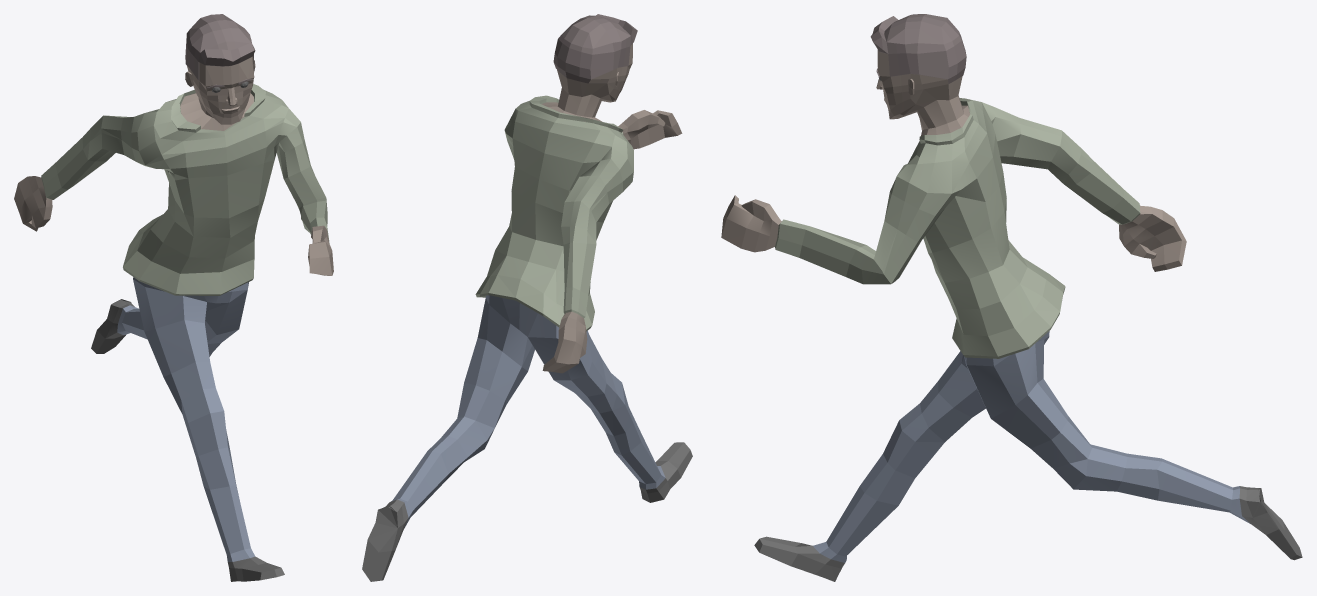
Rendered from run_1.glb.
The picture shows the model from 3 angles, left to right: view 1: azimuth 30°, elevation 25°; view 2: azimuth 150°, elevation 25°; view 3: azimuth 270°, elevation 25°; orthographic projection. The views are drawn at different scales.
Parts seen in each view (by area): view 1: BaseHuman_baked; view 2: BaseHuman_baked; view 3: BaseHuman_baked.
Boxes of the visible parts, x1=… form: BaseHuman_baked: x1=14, y1=14, x2=333, y2=581; BaseHuman_baked: x1=362, y1=14, x2=692, y2=581; BaseHuman_baked: x1=721, y1=14, x2=1302, y2=581.
Size of the model in its own units: 1.58 by 4.4 by 4.06.
